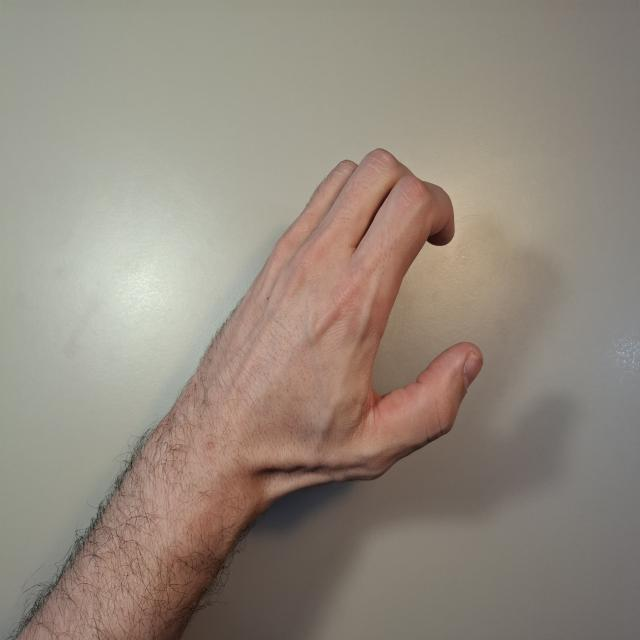glove_off: (210, 146, 486, 516)
